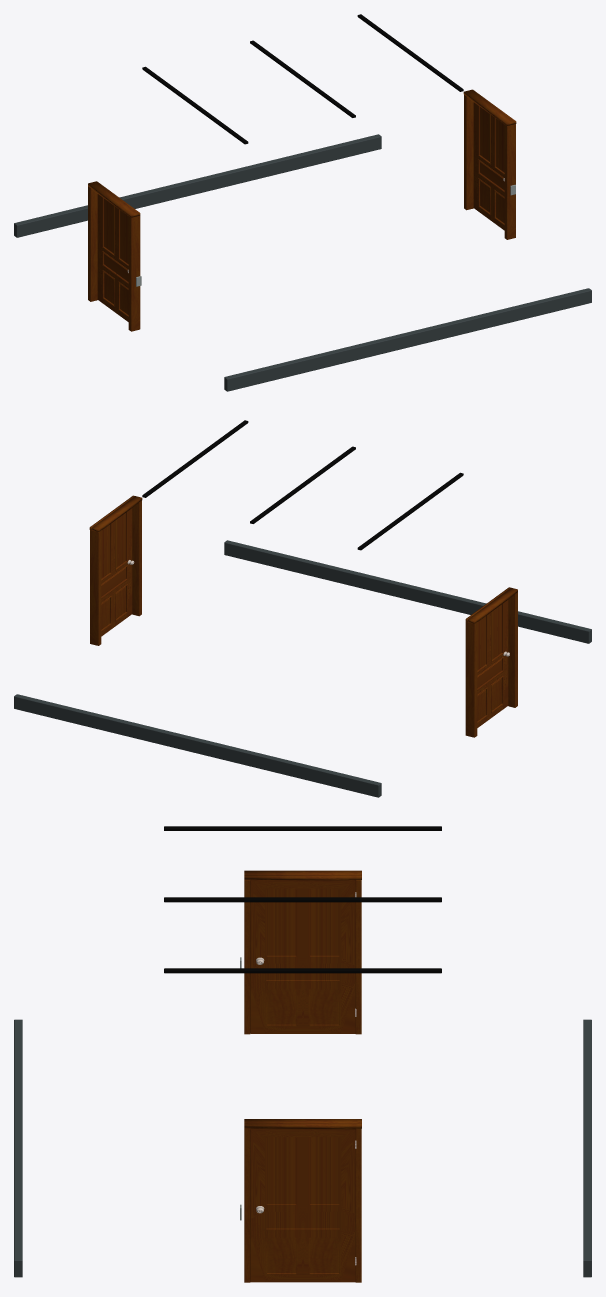
The model's file is SILENT_Room_07_B_Objects.fbx.
The picture shows the model from 3 angles, top to bottom: view 1: azimuth 30°, elevation 25°; view 2: azimuth 150°, elevation 25°; view 3: azimuth 270°, elevation 25°; orthographic projection. The views are drawn at different scales.
Visible parts, largest first — view 1: Room_07_B_Objects, Hinges.001, Hinges.002; view 2: Room_07_B_Objects, Hinges.001, Hinges.002; view 3: Hinges.002, Hinges.001, Room_07_B_Objects.
Part boxes in pixels (x1=…): Room_07_B_Objects: x1=14, y1=14, x2=591, y2=391; Hinges.001: x1=88, y1=181, x2=140, y2=331; Hinges.002: x1=463, y1=89, x2=516, y2=239; Room_07_B_Objects: x1=14, y1=420, x2=591, y2=797; Hinges.001: x1=465, y1=587, x2=517, y2=737; Hinges.002: x1=89, y1=495, x2=142, y2=645; Hinges.002: x1=244, y1=1119, x2=361, y2=1282; Hinges.001: x1=244, y1=870, x2=361, y2=1034; Room_07_B_Objects: x1=14, y1=826, x2=591, y2=1277.
Bounding box in the file's own units: 8.32 × 3.9 × 7.9.
Materials: 9 (2 with a texture image).
